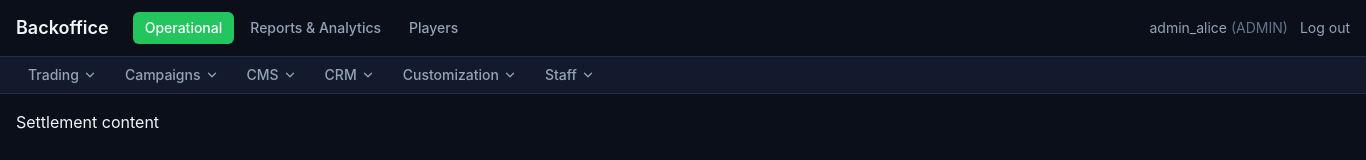
it: AppShell top-level sections › switching to Reports & Analytics shows its groups and marks it active
The image size is (1366, 160).
Click the link "Reports & Analytics".
click(316, 28)  # box [250,19,381,36]
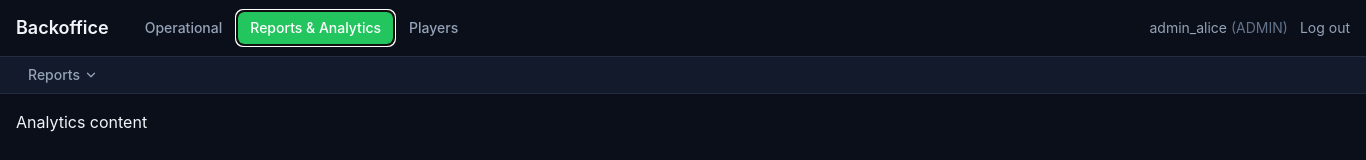
Check: the text "Analytics content" is shown, box [16,112,147,132]
Check: the button "Reports" is shown, box [16,57,110,93]
Check: the button "Trading" is gone
